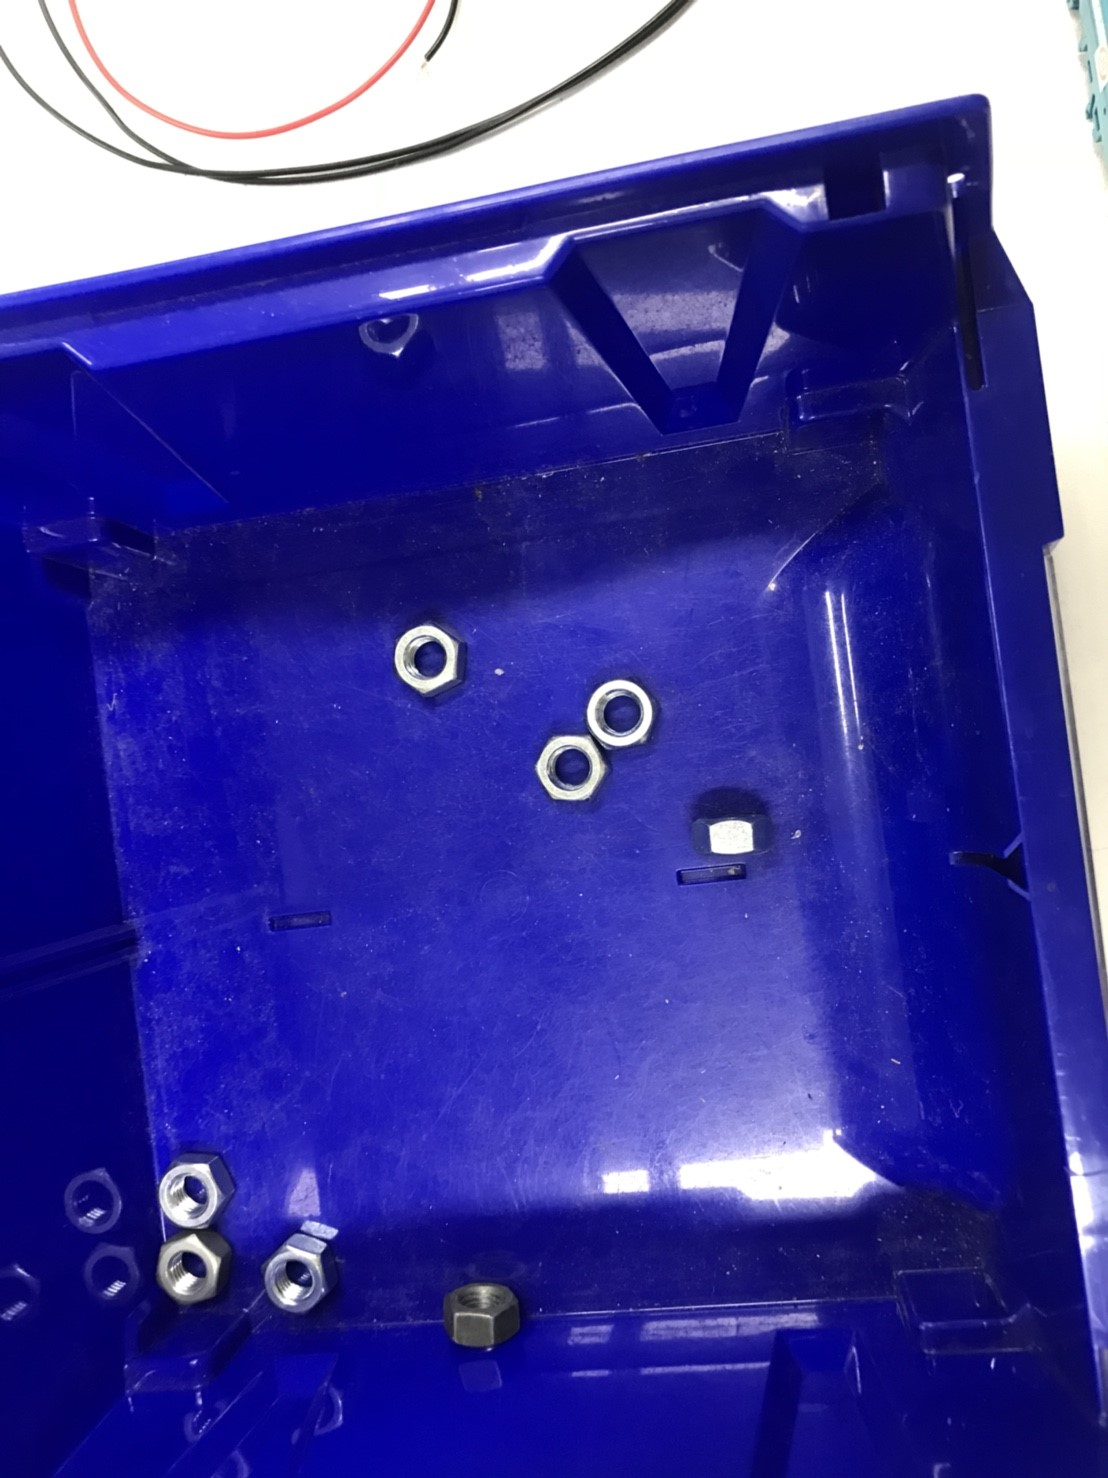nut: (395, 619, 470, 702), (264, 1232, 338, 1317), (154, 1154, 236, 1229), (152, 1234, 230, 1310), (587, 668, 658, 751), (436, 1280, 524, 1346), (528, 734, 605, 808), (695, 806, 776, 868)
